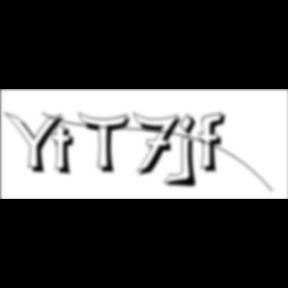7: (132, 111, 188, 179)
T: (78, 112, 136, 176)
Y: (3, 110, 70, 176)
f: (198, 111, 232, 175)
j: (176, 113, 204, 191)
t: (50, 124, 82, 179)
